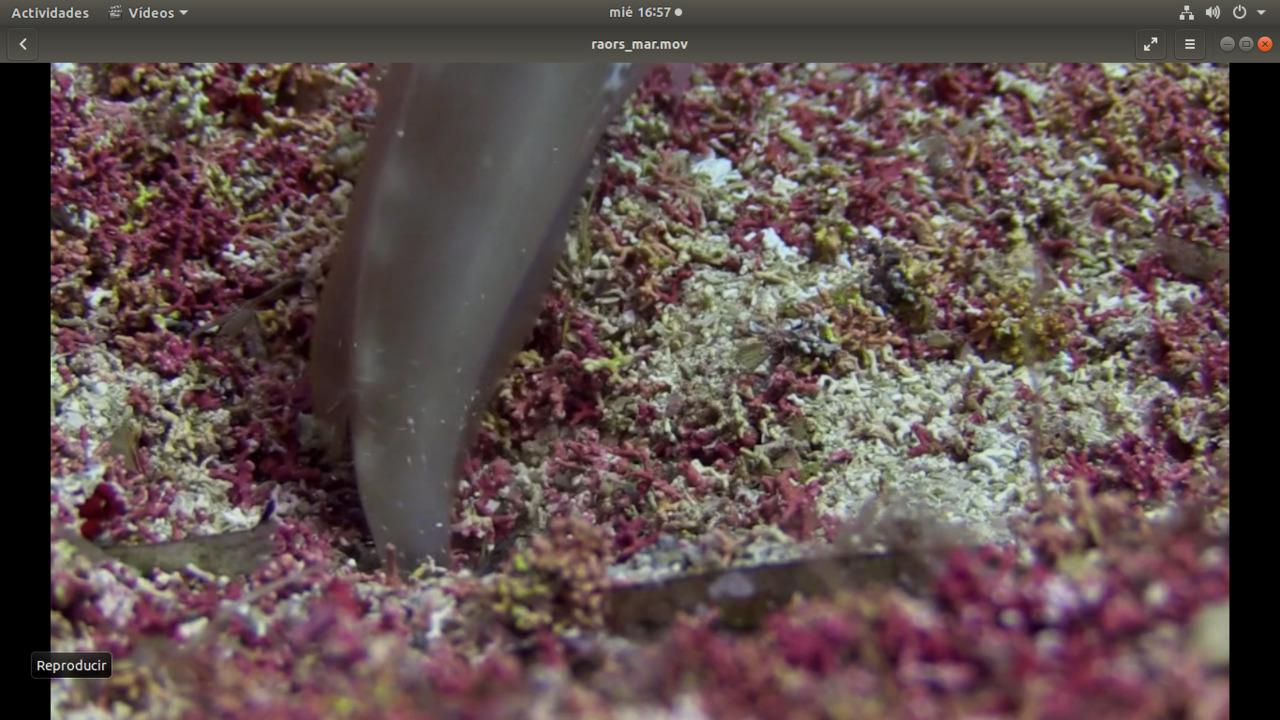raor: (294, 61, 694, 570)
